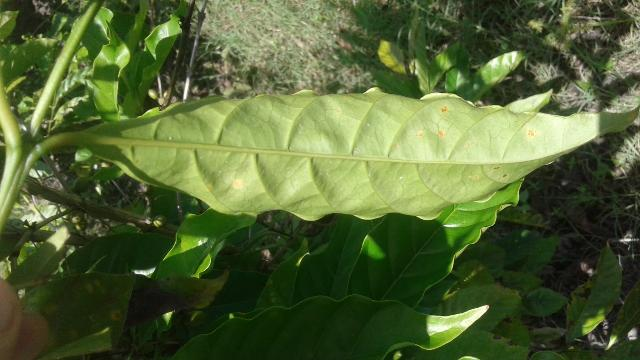rust_level_1: (81, 86, 636, 222)
